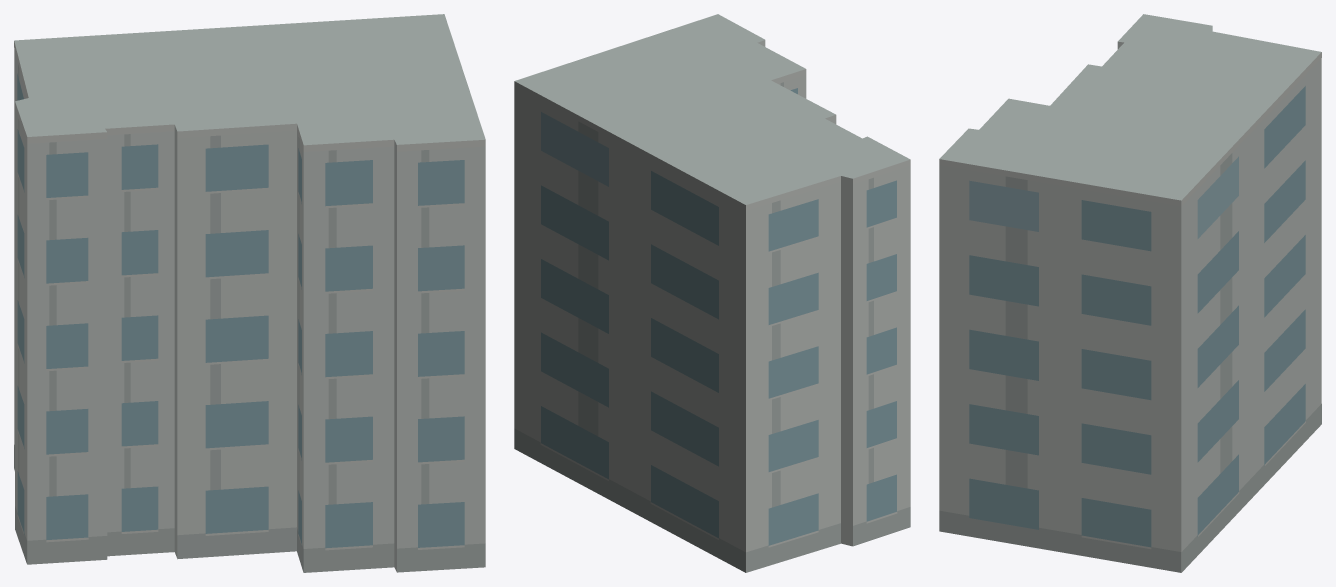
The model's file is survey-upis-32629443.glb.
The picture shows the model from 3 angles, left to right: view 1: azimuth 30°, elevation 25°; view 2: azimuth 150°, elevation 25°; view 3: azimuth 270°, elevation 25°; orthographic projection. The views are drawn at different scales.
Parts seen in each view (by area): view 1: survey-upis-32629443.tmp; view 2: survey-upis-32629443.tmp; view 3: survey-upis-32629443.tmp.
Boxes of the visible parts, box(x1,y1,x2,y2) form: survey-upis-32629443.tmp: box(14, 14, 485, 572); survey-upis-32629443.tmp: box(514, 14, 910, 572); survey-upis-32629443.tmp: box(939, 14, 1321, 572).
Bounding box in the file's own units: 16.4 × 15.25 × 14.21.
